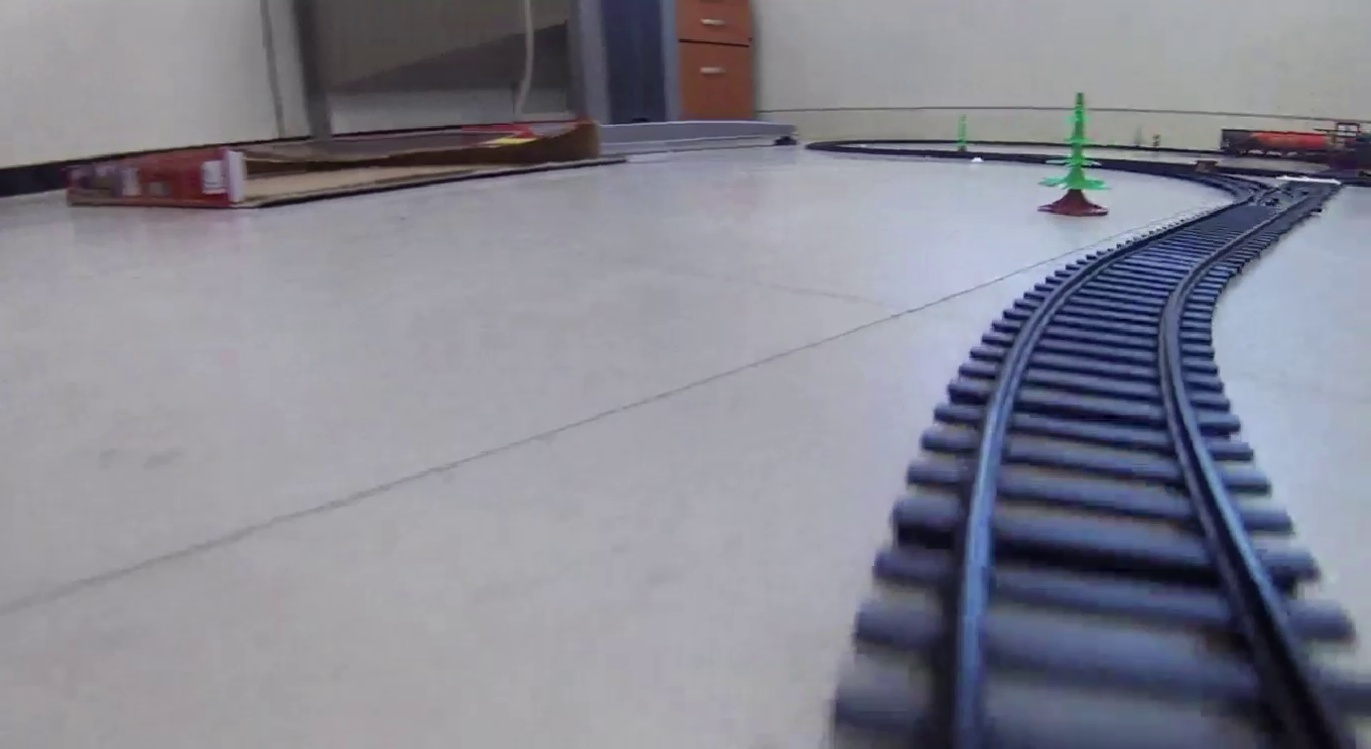tree: (1038, 91, 1110, 218)
